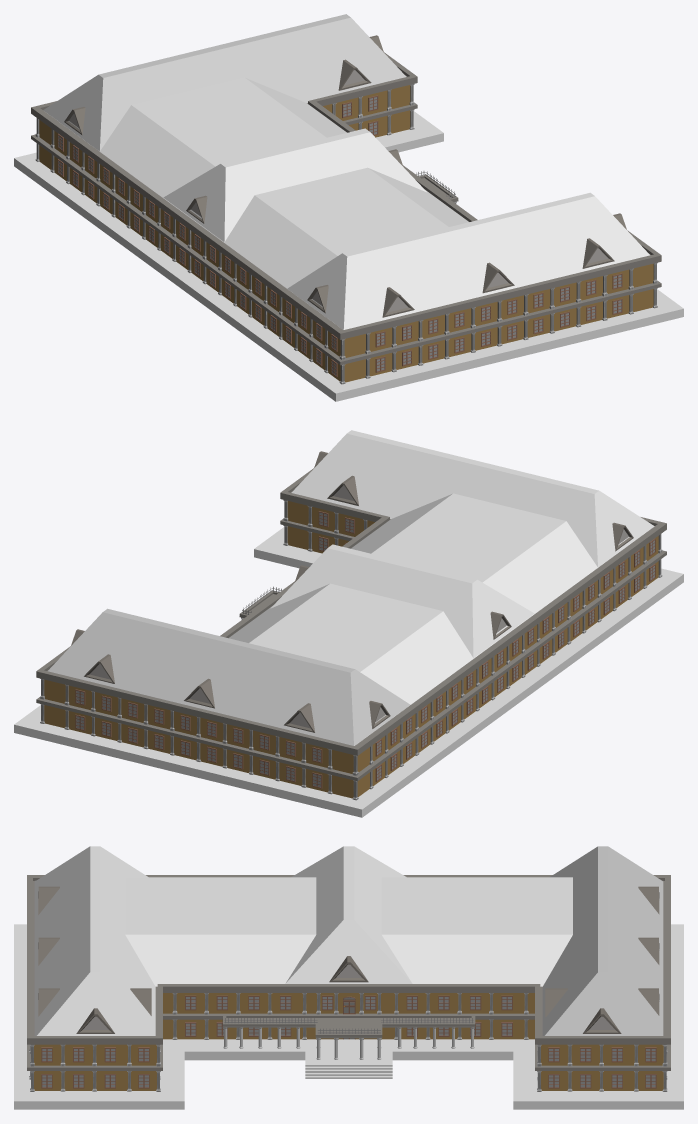
The model's file is Mansao jogo111.fbx.
The picture shows the model from 3 angles, top to bottom: view 1: azimuth 30°, elevation 25°; view 2: azimuth 150°, elevation 25°; view 3: azimuth 270°, elevation 25°; orthographic projection. The views are drawn at different scales.
Visible parts, largest first — view 1: Cube.272, Cube.273, Casa.001, Cube.274, Cube.118, Casa, Cube.271, Cube.279; view 2: Cube.272, Cube.274, Casa.001, Cube.273, Cube.118, Casa, Cube.271; view 3: Cube.272, Cube.118, Casa.001, Cube.273, Cube.274, Casa, Cube.271, Plane, Cube.277, Cube.276, Cube.275.
Boxes of the visible parts, box(x1,y1,x2,y2) form: Cube.272: box(47, 77, 468, 327); Cube.273: box(287, 192, 649, 329); Casa.001: box(31, 52, 661, 357); Cube.274: box(43, 14, 406, 151); Cube.118: box(14, 111, 683, 401); Casa: box(31, 103, 661, 382); Cube.271: box(163, 128, 426, 241); Cube.279: box(338, 59, 371, 90); Cube.272: box(229, 493, 653, 740); Cube.274: box(48, 608, 410, 745); Casa.001: box(36, 468, 666, 773); Cube.273: box(291, 430, 654, 567); Cube.118: box(14, 527, 683, 817); Casa: box(36, 519, 666, 798); Cube.271: box(270, 544, 534, 657); Cube.272: box(35, 877, 572, 986); Cube.118: box(14, 924, 683, 1109); Casa.001: box(27, 875, 670, 1065); Cube.273: box(34, 846, 155, 1035); Cube.274: box(542, 846, 663, 1035); Casa: box(27, 1013, 670, 1090); Cube.271: box(285, 846, 412, 983); Plane: box(222, 1016, 475, 1038); Cube.277: box(329, 956, 368, 982); Cube.276: box(76, 1008, 114, 1033); Cube.275: box(583, 1008, 621, 1033).
Size of the model in its own units: 6612 by 1937 by 10586.
